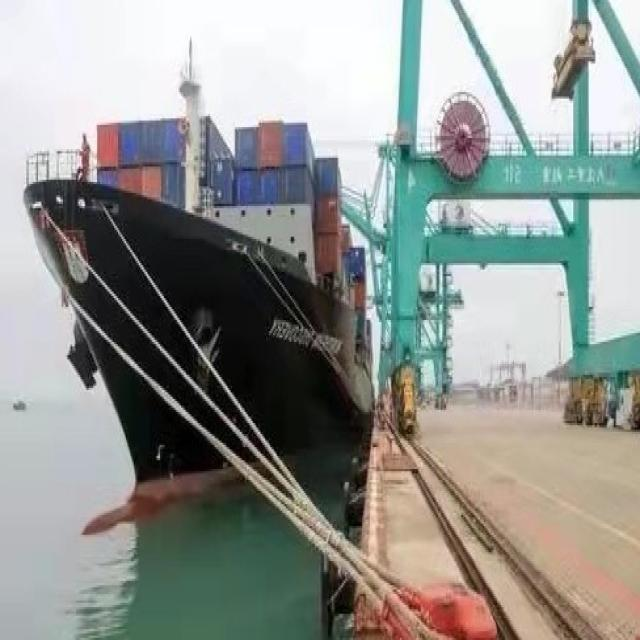cargoship: (27, 94, 377, 534)
